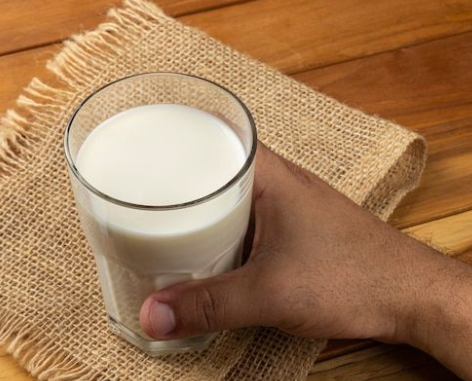produk_susu: (83, 96, 224, 345)
